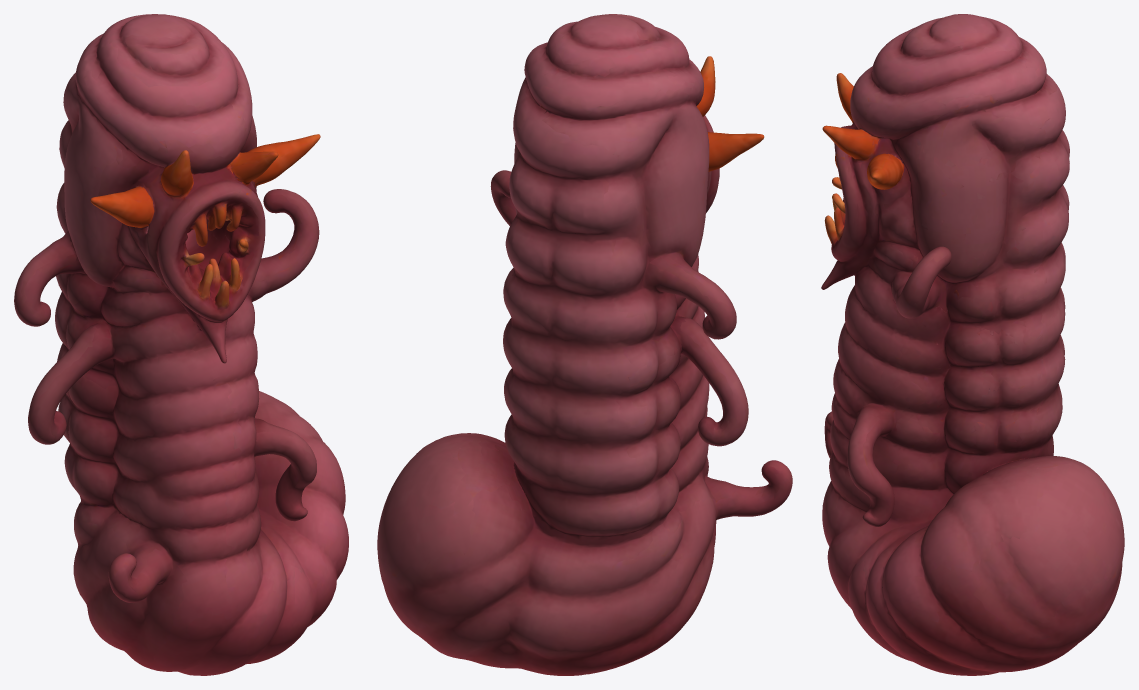
Rendered from SARGD1_2026-08-14T123349.857.glb.
3 views of the same model, side by side, from view 1: azimuth 30°, elevation 25°; view 2: azimuth 150°, elevation 25°; view 3: azimuth 270°, elevation 25° (orthographic). The views are drawn at different scales.
Visible parts, largest first — view 1: world; view 2: world; view 3: world.
Boxes of the visible parts, x1,y1,x2,y2 form: world: (14,14,348,675); world: (377,14,792,675); world: (821,14,1124,675).
Bounding box in the file's own units: 0.5257 × 1 × 0.4523.
1 material, 1 textured.
